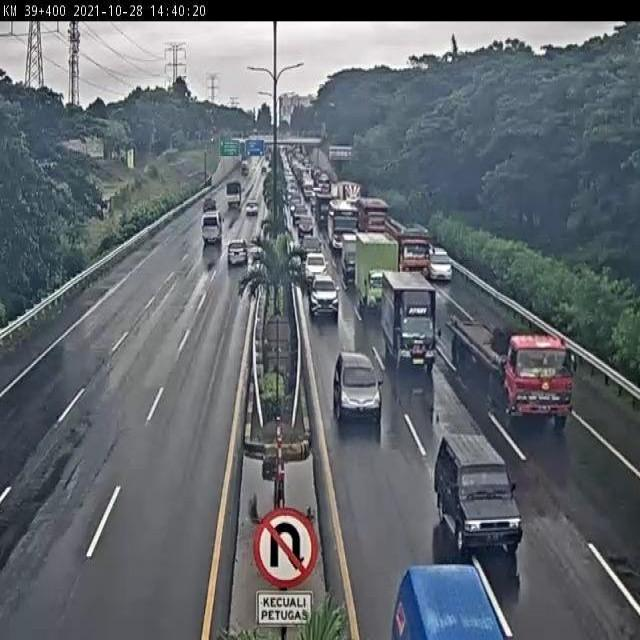big truck: (452, 316, 576, 425)
car: (435, 433, 522, 552), (335, 346, 382, 414), (310, 275, 341, 317), (305, 252, 329, 284), (429, 244, 450, 280), (228, 241, 249, 267)
mid truck: (385, 212, 430, 273)
small bus: (202, 210, 222, 246)
small truck: (383, 275, 438, 365), (355, 228, 394, 308), (338, 227, 356, 273)
